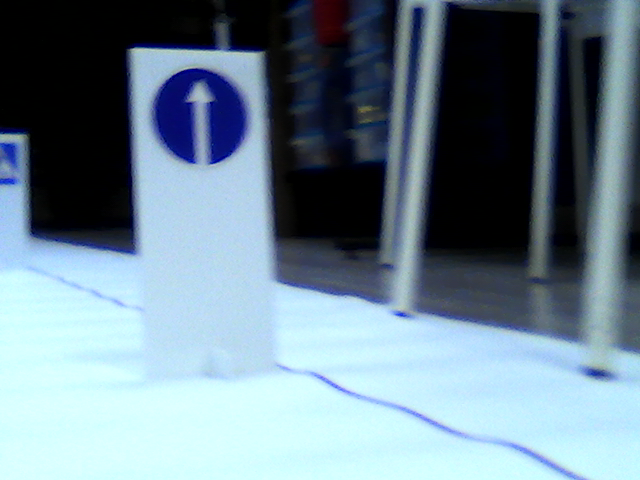forw: (150, 58, 250, 172)
